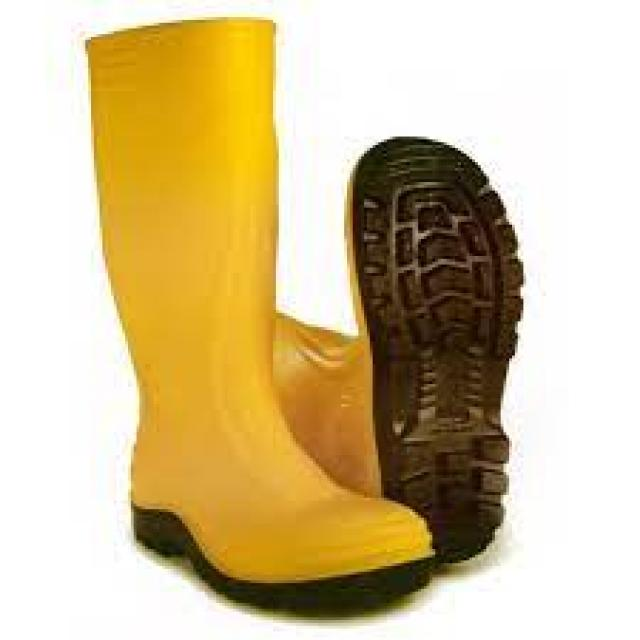shoes: (89, 21, 522, 606)
